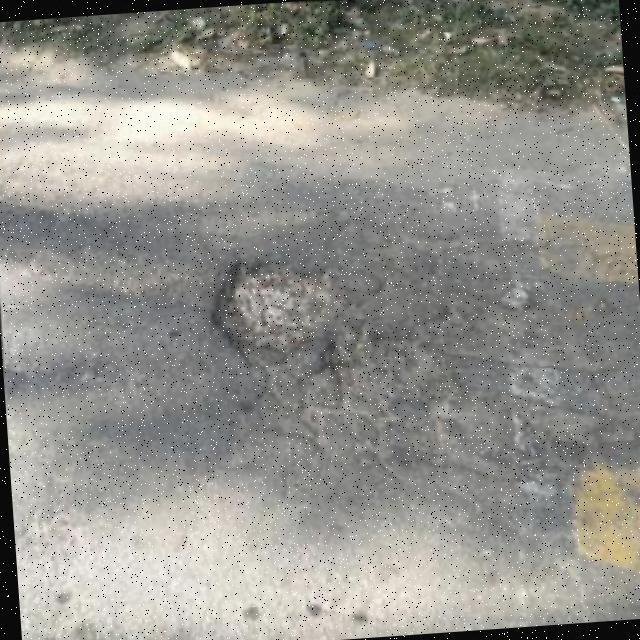Pothole: (216, 262, 359, 375)
